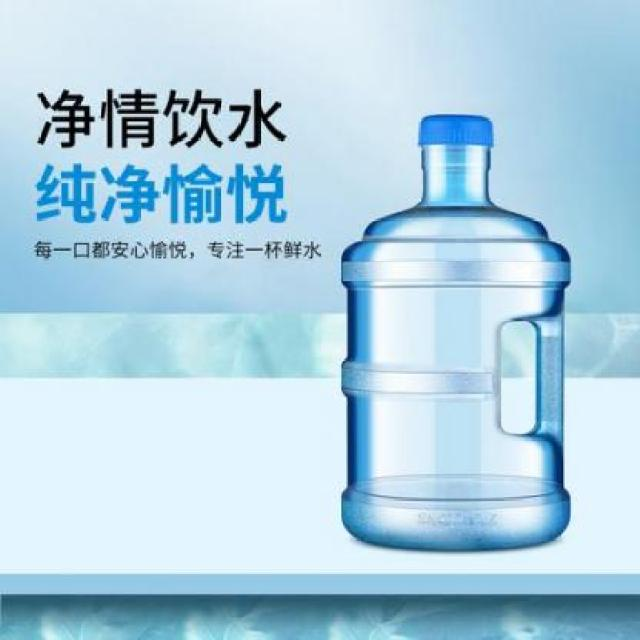coolerbottle: (335, 106, 578, 563)
